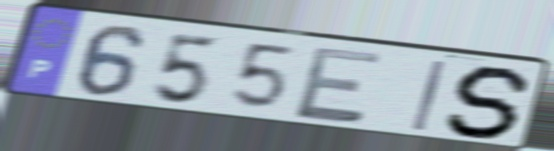5: (149, 30, 227, 106), (227, 41, 298, 114)
6: (74, 23, 148, 100)
E: (292, 44, 387, 126)
I: (409, 57, 450, 134)
S: (442, 63, 538, 141)
